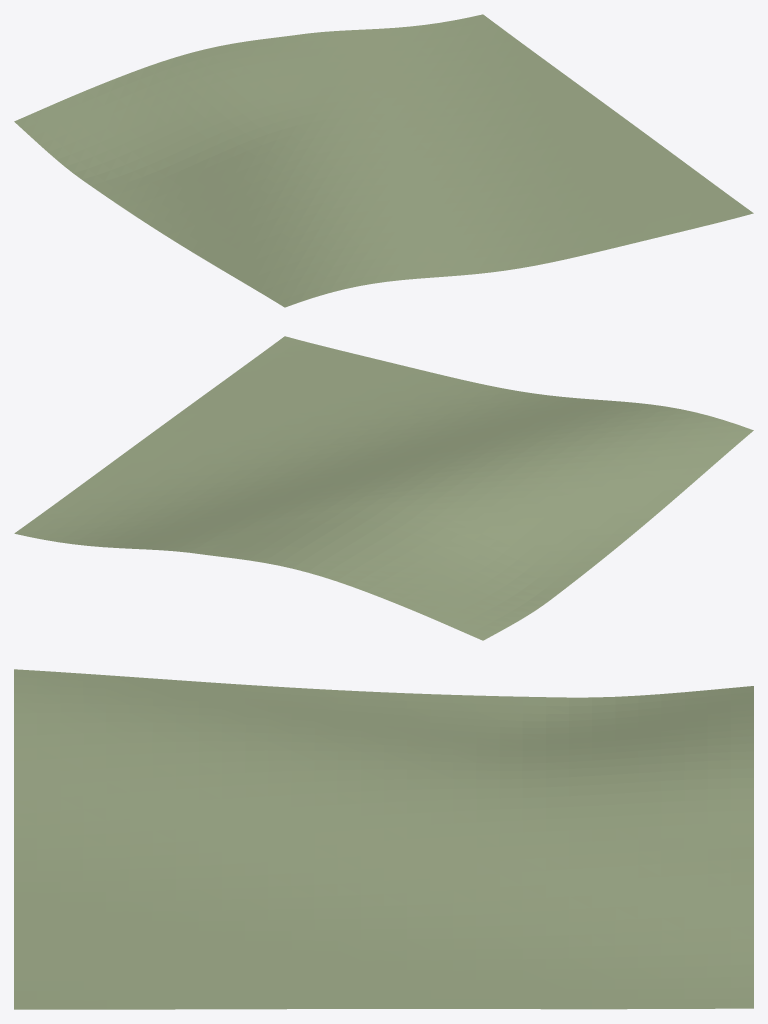
File: desert-4-7.glb
3 renders of one model, top to bottom at view 1: azimuth 30°, elevation 25°; view 2: azimuth 150°, elevation 25°; view 3: azimuth 270°, elevation 25°, orthographic. The views are drawn at different scales.
Parts seen in each view (by area): view 1: desert-4-7; view 2: desert-4-7; view 3: desert-4-7.
Boxes of the visible parts, x1,y1,x2,y2 form: desert-4-7: (14,14,753,307); desert-4-7: (14,336,753,640); desert-4-7: (14,669,753,1009).
Size of the model in its own units: 512 by 35.85 by 512.
